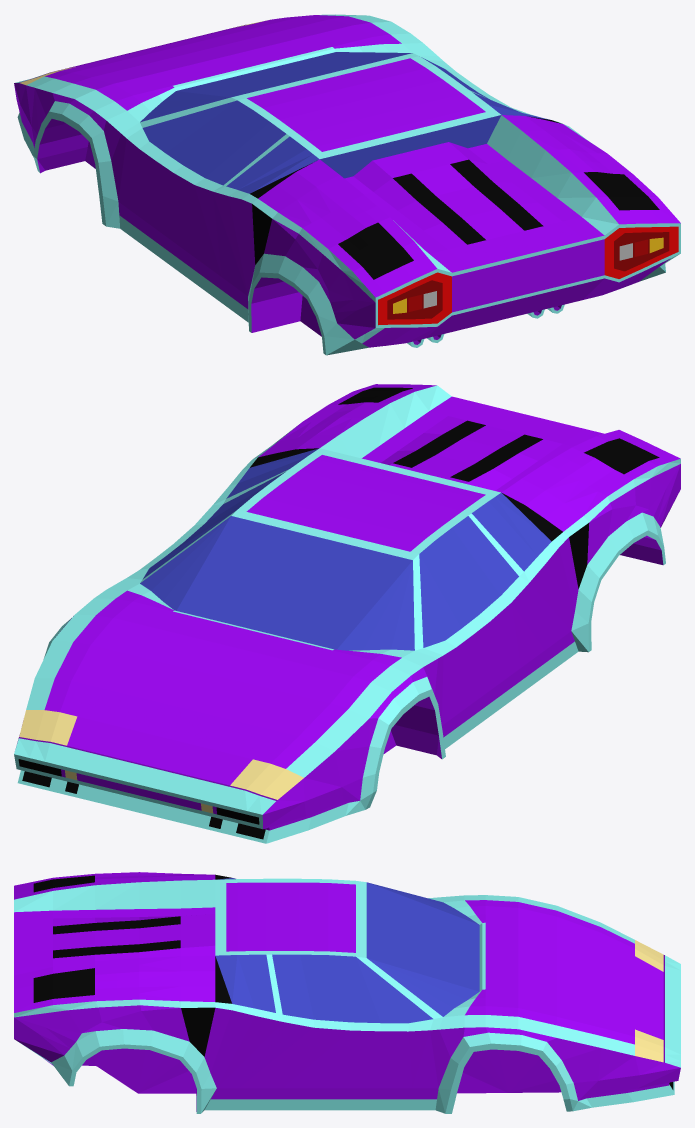
Rendered from countach_body_textured.fbx.
3 views of the same model, one above another, from view 1: azimuth 30°, elevation 25°; view 2: azimuth 150°, elevation 25°; view 3: azimuth 270°, elevation 25° (orthographic). The views are drawn at different scales.
Visible parts, largest first — view 1: body; view 2: body; view 3: body.
Part boxes in pixels (x1,y1,x2,y2): body: (14,14,680,355); body: (14,384,680,843); body: (14,872,680,1113).
Bounding box in the file's own units: 7032 × 2918 × 13974.
1 material, 1 textured.
